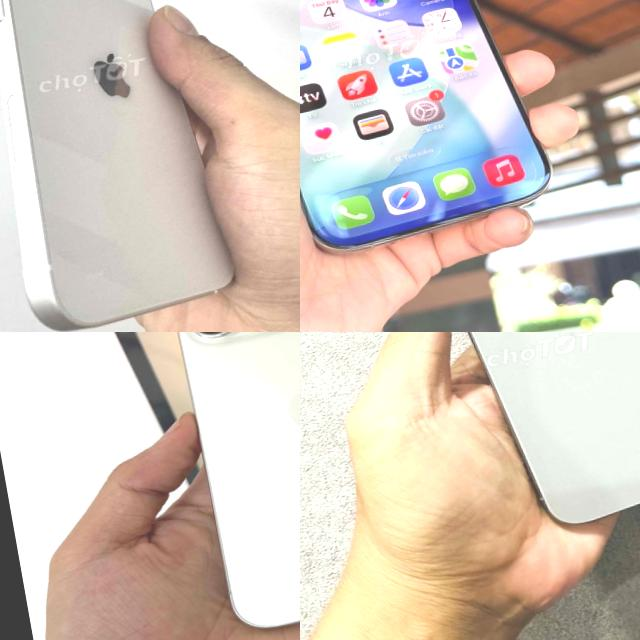gen_12_13: (0, 0, 241, 332)
gen_15: (394, 332, 640, 540), (136, 332, 300, 640)
gen_16: (300, 0, 564, 275)
